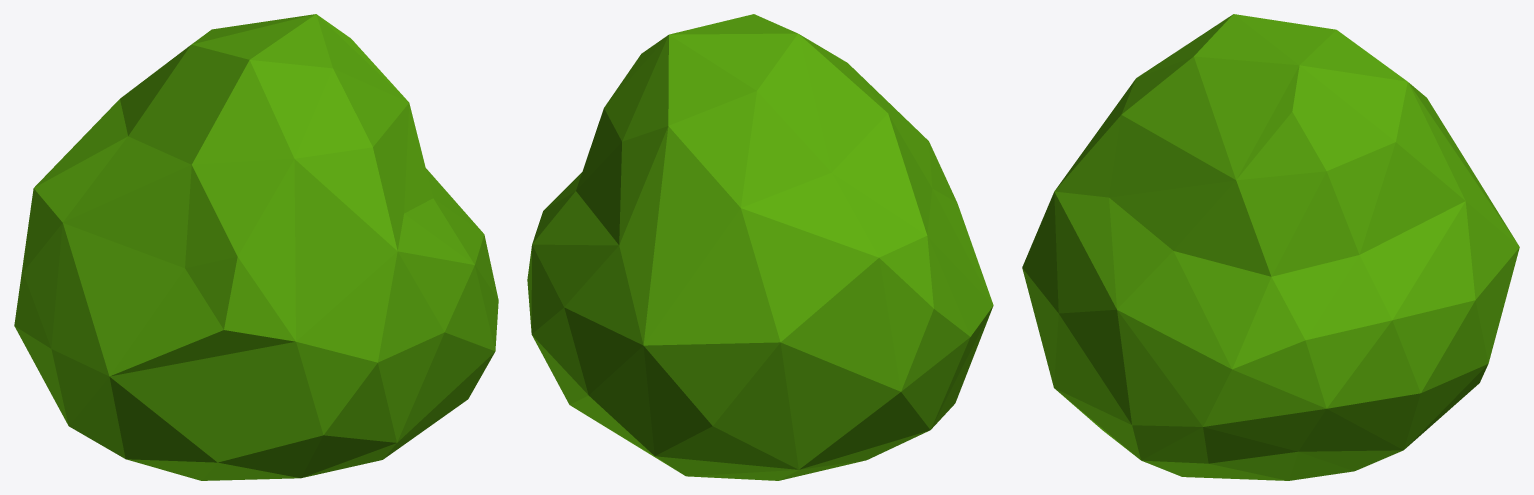
The model's file is ShrubGroundA.fbx.
3 views of the same model, side by side, from view 1: azimuth 30°, elevation 25°; view 2: azimuth 150°, elevation 25°; view 3: azimuth 270°, elevation 25° (orthographic). The views are drawn at different scales.
Visible parts, largest first — view 1: ShrubGroundA_geo; view 2: ShrubGroundA_geo; view 3: ShrubGroundA_geo.
Boxes of the visible parts, bbox=[...] form: ShrubGroundA_geo: bbox=[14, 14, 498, 480]; ShrubGroundA_geo: bbox=[527, 14, 993, 480]; ShrubGroundA_geo: bbox=[1022, 14, 1519, 480].
Size of the model in its own units: 252 by 230 by 251.
